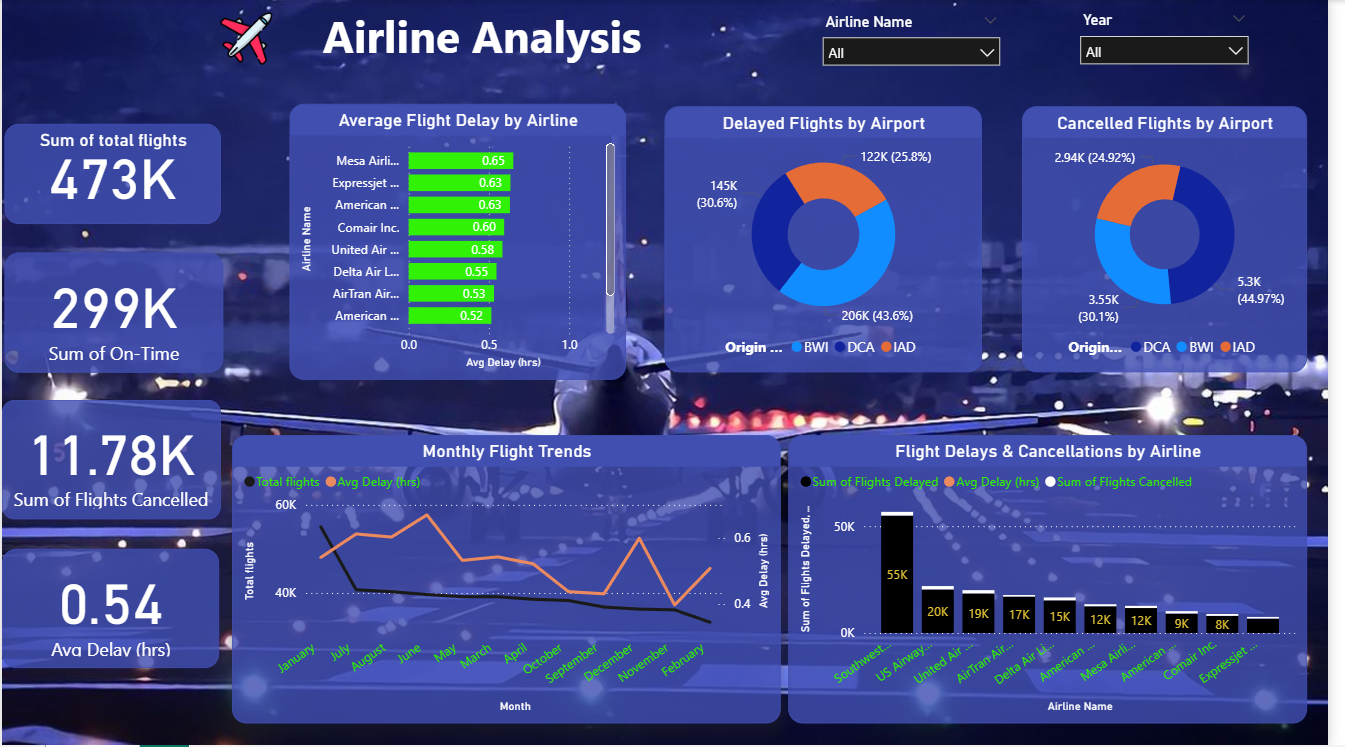

This screenshot's page, from the dashboard's own definition file:
{"tool":"powerbi","page":{"name":"Page 1","canvas":[1280,720],"ordinal":0},"visuals":[{"type":"textbox","box":[24.3,0,831.4,67.1],"z":0},{"type":"card","title":"Sum of total flights","fields":{"Values":["Sum(Sheet1.Number of Flights)"]},"box":[2.4,119.4,208.7,96.5],"z":1000},{"type":"card","fields":{"Values":["Sum(Sheet1.On-Time)"]},"box":[2.4,243.7,211.1,115.8],"z":2000},{"type":"card","fields":{"Values":["Sheet1.Avg Delay (hrs)"]},"box":[0,529.7,209.9,115.3],"z":3000},{"type":"card","fields":{"Values":["Sum(Sheet1.Flights Cancelled)"]},"box":[0,385.6,211.3,115.3],"z":4000},{"type":"barChart","title":"Average Flight Delay by Airline","fields":{"Category":["Sheet1.Airline Name"],"Y":["Sheet1.Avg Delay (hrs)"]},"box":[277.5,100.1,324.5,266.6],"z":5000},{"type":"columnChart","title":"Flight Delays & Cancellations by Airline","fields":{"Category":["Sheet1.Airline Name"],"Y":["Sum(Sheet1.Flights Delayed)","Sheet1.Avg Delay (hrs)","Sum(Sheet1.Flights Cancelled)"]},"box":[758.9,419.8,500.7,278.7],"z":6000},{"type":"lineChart","title":"Monthly Flight Trends","fields":{"Category":["Sheet1.Month"],"Y":["Sheet1.Total flights"],"Y2":["Sheet1.Avg Delay (hrs)"]},"box":[222.3,419.9,529.7,278.6],"z":7000},{"type":"donutChart","title":"Delayed Flights by Airport","fields":{"Y":["Sheet1.Total flights"],"Category":["Sheet1.Origin Airport"]},"box":[639.4,102.5,306.4,257],"z":8000},{"type":"slicer","fields":{"Values":["Sheet1.Airline Name"]},"box":[781.4,7.1,191.4,87.1],"z":9000},{"type":"slicer","fields":{"Values":["Sheet1.Year"]},"box":[1030,5.7,182.9,88.6],"z":10000},{"type":"donutChart","title":"Cancelled Flights by Airport","fields":{"Category":["Sheet1.Origin Airport"],"Y":["Sum(Sheet1.Flights Cancelled)"]},"box":[984.5,102.5,275.1,257],"z":11000},{"type":"image","box":[178.6,7.1,114.3,60],"z":13000}]}

Visuals, with their boxes in screenshot pixels (x1, y1, x2, y2), scaled from the page's 1280x720 canvas onto the 1345x747 screenshot:
textbox: locate(26, 0, 899, 70)
"Sum of total flights" card: locate(3, 124, 222, 224)
card - Sum(Sheet1.On-Time): locate(3, 253, 224, 373)
card - Sheet1.Avg Delay (hrs): locate(0, 550, 221, 669)
card - Sum(Sheet1.Flights Cancelled): locate(0, 400, 222, 520)
"Average Flight Delay by Airline" barChart: locate(292, 104, 633, 380)
"Flight Delays & Cancellations by Airline" columnChart: locate(797, 436, 1324, 725)
"Monthly Flight Trends" lineChart: locate(234, 436, 790, 725)
"Delayed Flights by Airport" donutChart: locate(672, 106, 994, 373)
slicer - Sheet1.Airline Name: locate(821, 7, 1022, 98)
slicer - Sheet1.Year: locate(1082, 6, 1274, 98)
"Cancelled Flights by Airport" donutChart: locate(1034, 106, 1324, 373)
image: locate(188, 7, 308, 70)
